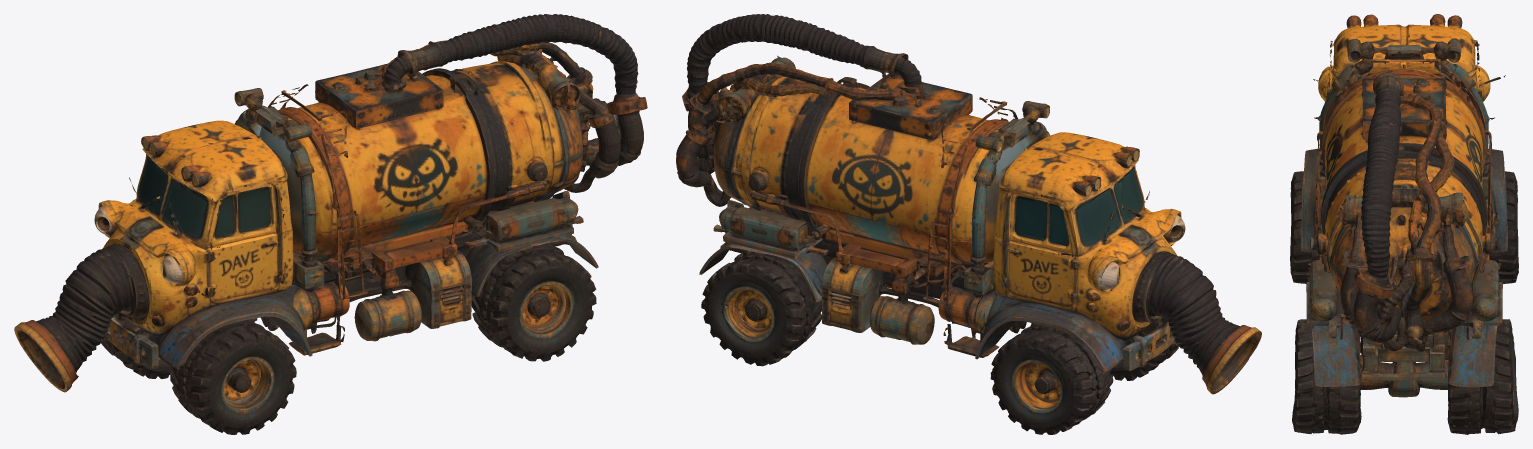
The model's file is dave-truck.glb.
3 renders of one model, left to right at view 1: azimuth 30°, elevation 25°; view 2: azimuth 150°, elevation 25°; view 3: azimuth 270°, elevation 25°, orthographic. The views are drawn at different scales.
Parts seen in each view (by area): view 1: temp; view 2: temp; view 3: temp.
Part boxes in pixels (box(x1,y1,x2,y2)): temp: box(14, 14, 647, 434); temp: box(676, 14, 1261, 434); temp: box(1290, 14, 1518, 434).
Size of the model in its own units: 27.22 by 13.33 by 8.77.
1 material, 1 textured.
